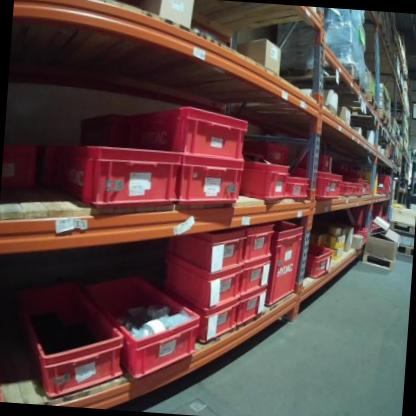pallet: (273, 59, 364, 109), (330, 87, 382, 120), (368, 120, 393, 146), (363, 111, 394, 131), (390, 220, 414, 237), (398, 242, 414, 261), (388, 155, 401, 170)
small_load_carrier: (79, 262, 204, 387), (21, 296, 129, 406), (36, 139, 185, 215), (123, 98, 250, 160), (175, 151, 247, 216), (161, 258, 244, 313), (168, 217, 246, 274), (267, 213, 308, 311), (1, 135, 47, 200), (294, 147, 343, 205), (235, 159, 294, 207), (194, 298, 238, 347), (74, 113, 136, 147), (244, 219, 280, 272), (238, 281, 273, 329), (300, 240, 336, 285), (237, 257, 273, 299), (245, 137, 297, 166), (282, 173, 307, 207), (345, 230, 373, 254), (0, 337, 10, 402), (335, 183, 354, 200), (346, 182, 365, 197)
